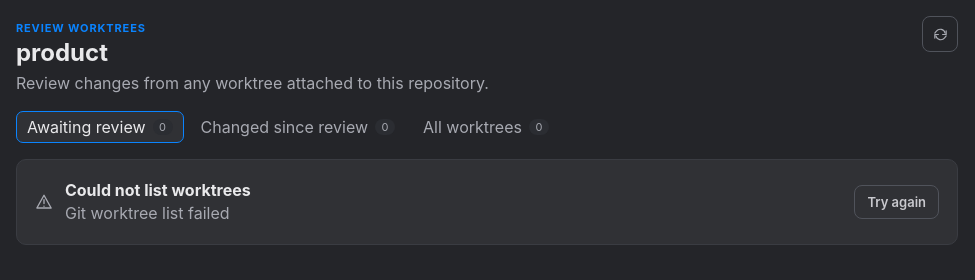
Test: worktree review queue › retries a failed worktree listing
Expected: the message shows "Git worktree list failed", [65,203,230,223]
What coordinates should you click on to do the following:
click the button "Try again"
I would click on:
 (897, 202)
Its box is [854,185,939,219].
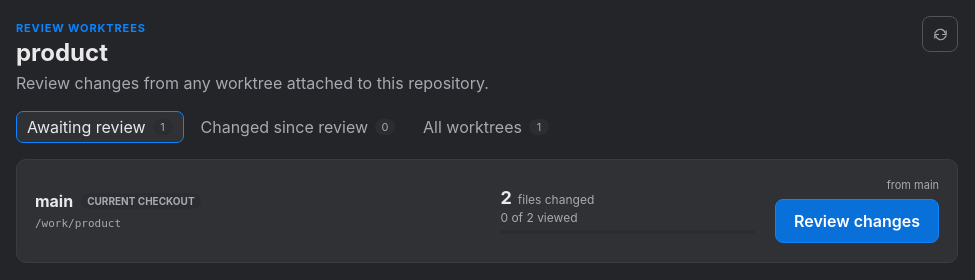
Expected: the button with aria-label "Review main" is shown, [775,199,939,243]
